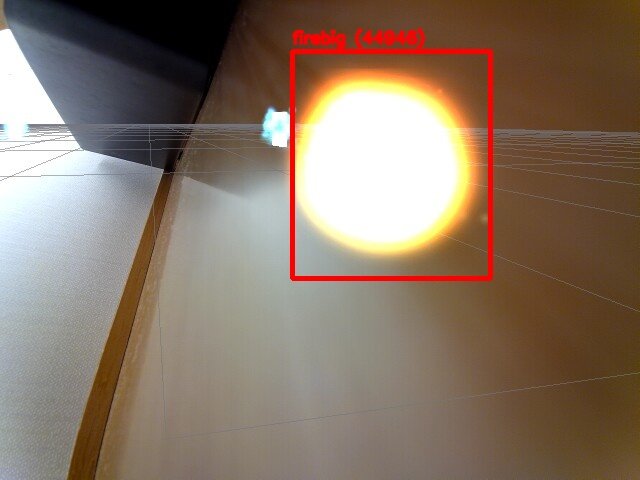firebig: (292, 51, 490, 278)
